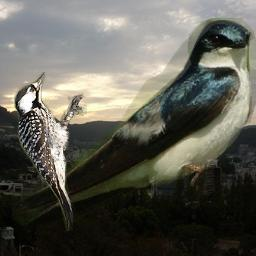Swallow: (12, 18, 256, 233)
Woodpecker: (14, 72, 87, 231)
